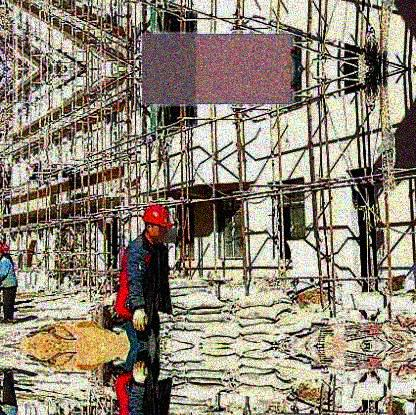helmet: (142, 205, 172, 243), (1, 245, 4, 258)
